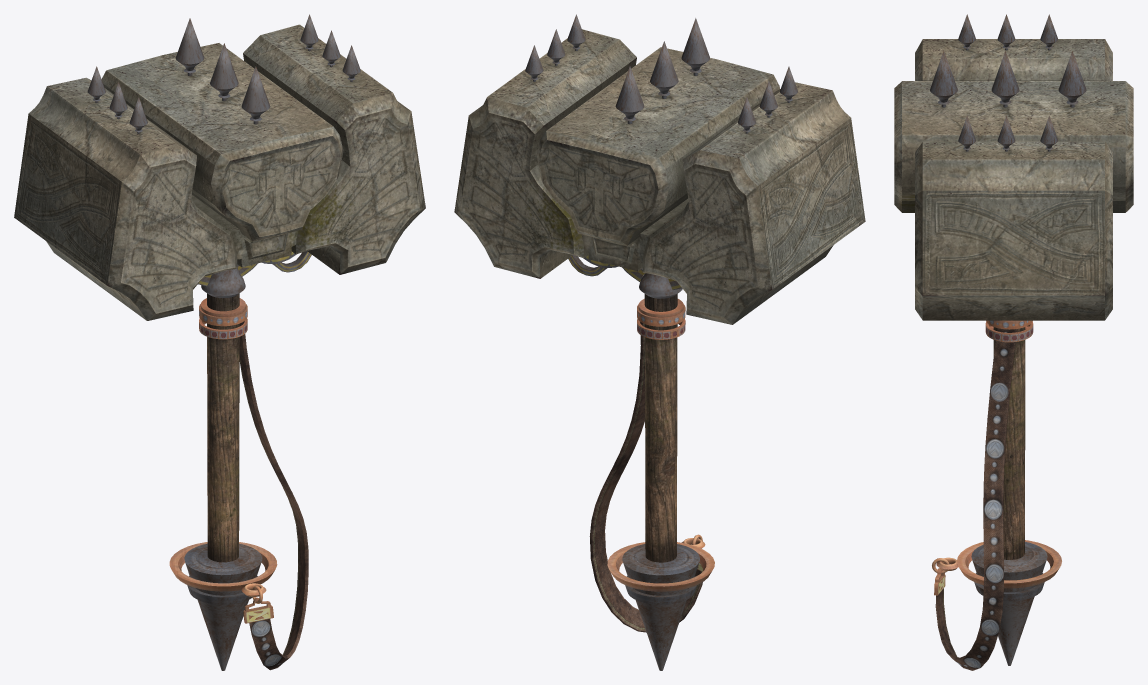
The model's file is hammer.glb.
3 views of the same model, side by side, from view 1: azimuth 30°, elevation 25°; view 2: azimuth 150°, elevation 25°; view 3: azimuth 270°, elevation 25° (orthographic). The views are drawn at different scales.
Visible parts, largest first — view 1: HIGH; view 2: HIGH; view 3: HIGH.
Boxes of the visible parts, x1=… form: HIGH: x1=14, y1=14, x2=425, y2=670; HIGH: x1=454, y1=14, x2=865, y2=670; HIGH: x1=894, y1=14, x2=1133, y2=670.
Size of the model in its own units: 3.58 by 6.76 by 2.39.
1 material, 1 textured.
